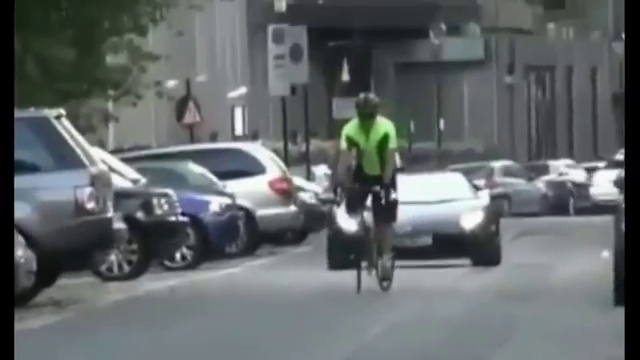cyclist_front: (337, 89, 402, 295)
